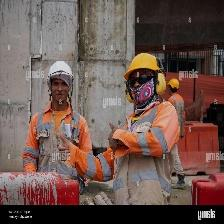Person: (105, 46, 181, 205), (22, 59, 90, 171), (165, 76, 188, 142)
helmet: (124, 50, 164, 82), (47, 61, 74, 82), (167, 78, 180, 88)
vest: (111, 102, 178, 204), (24, 111, 87, 165), (171, 95, 186, 136)
